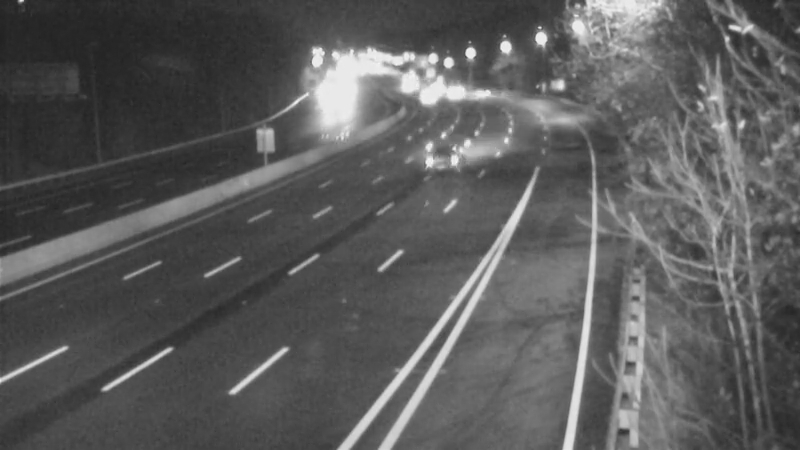vehicle: (417, 112, 497, 192), (401, 74, 451, 124), (462, 66, 512, 116)
